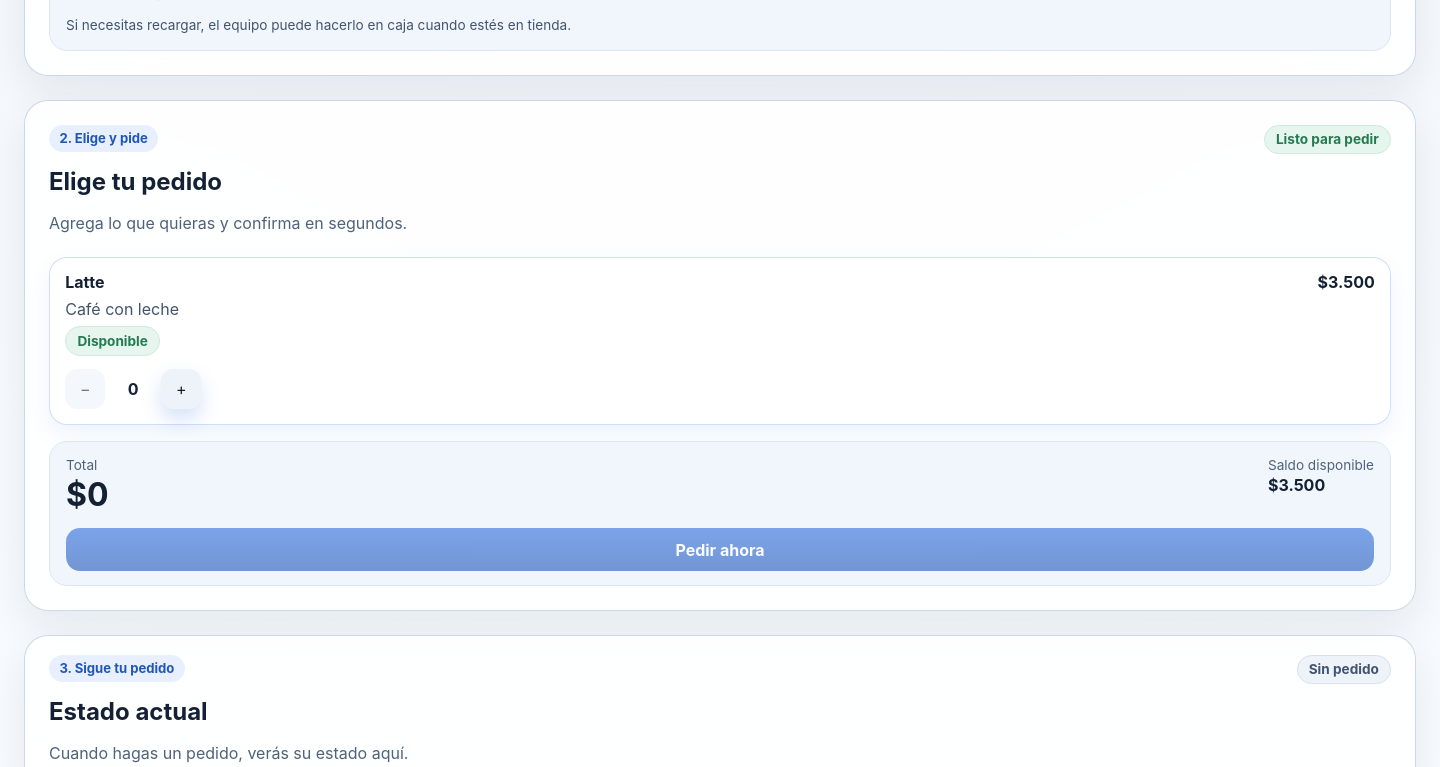
it: client page order actions › maps the wallet balance backend error to calm Spanish copy
(page scrolled)
Click the button "+" at (181, 389), box [161,369,201,409]
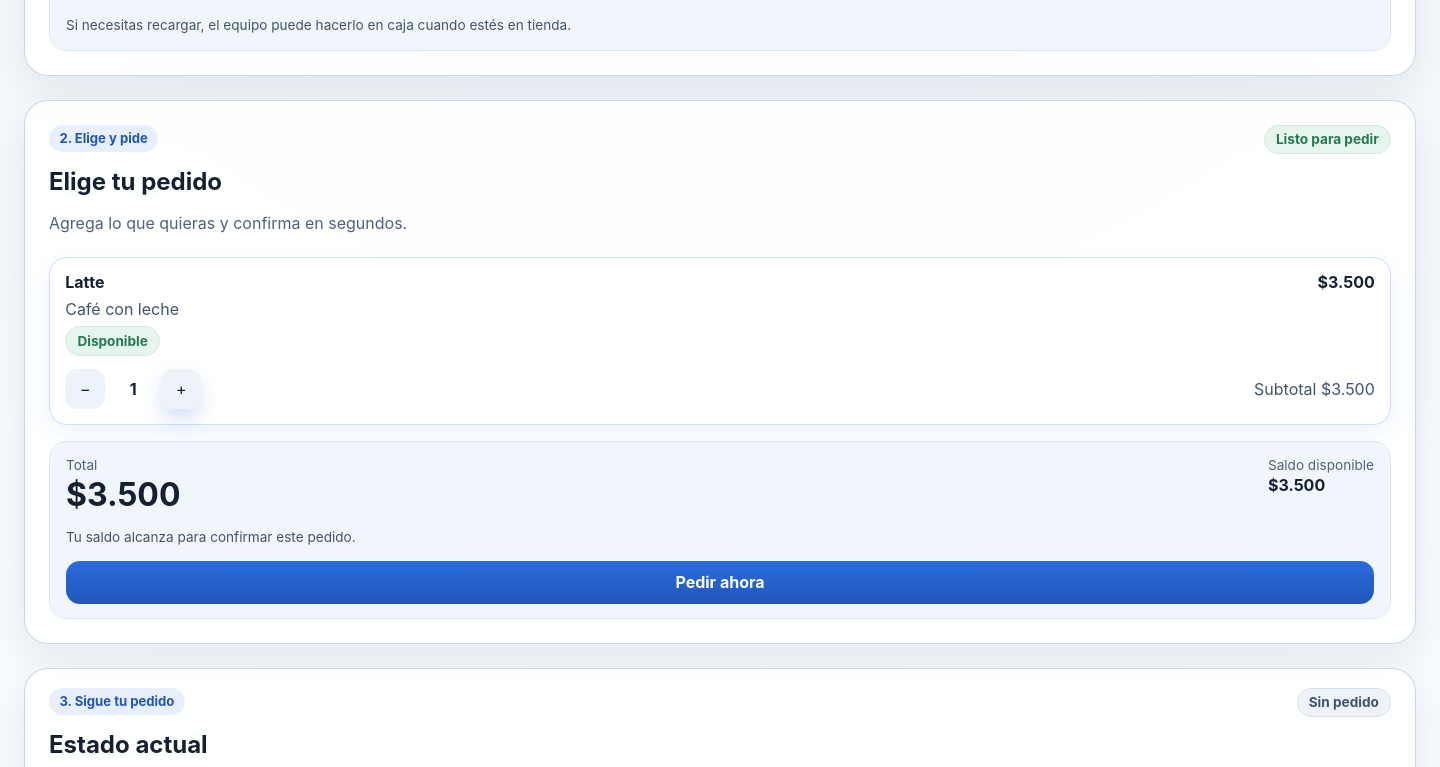
Click the button "Pedir ahora" at (720, 582), box [66,561,1374,604]
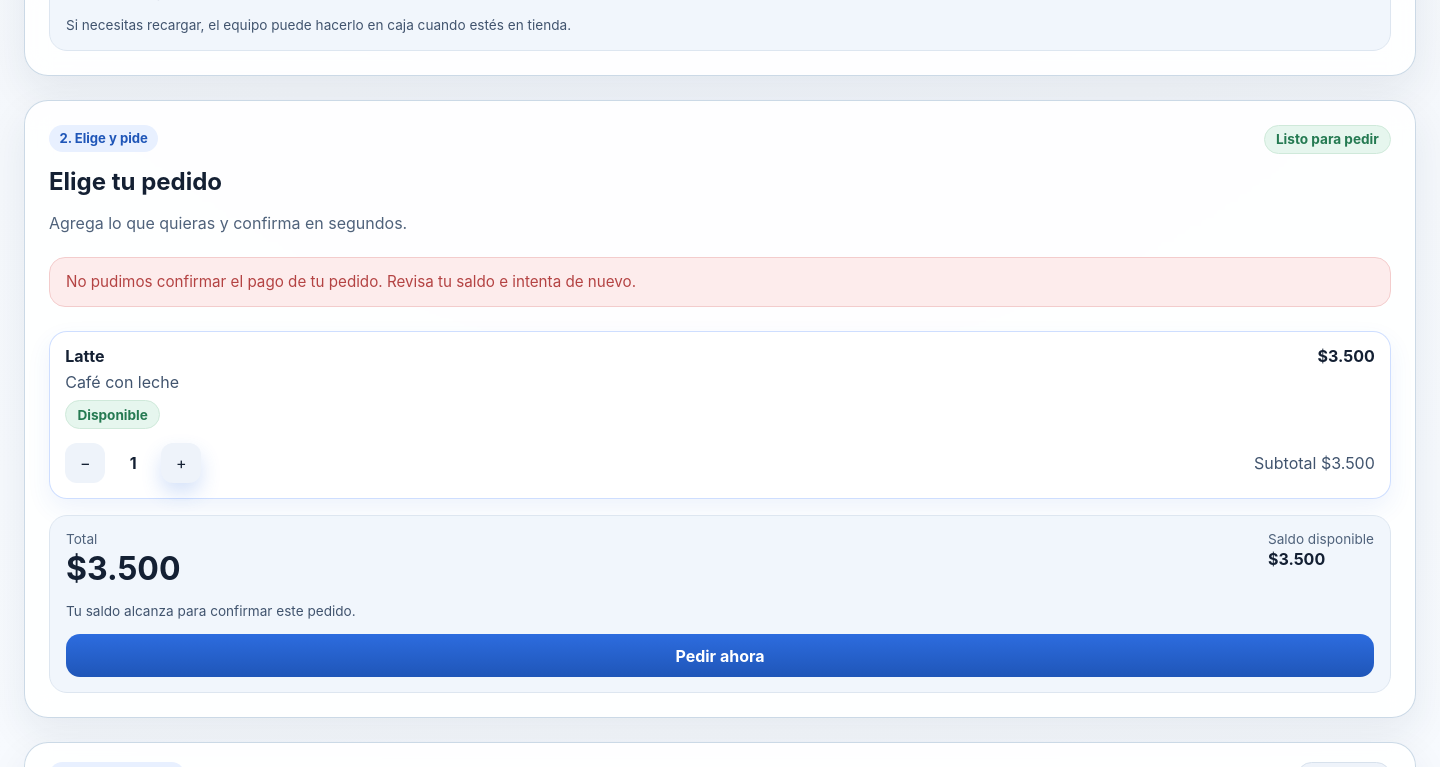
Now the text "No pudimos confirmar el pago de tu pedido. Revisa tu saldo e intenta de nuevo." is shown, box [49,257,1391,306]
